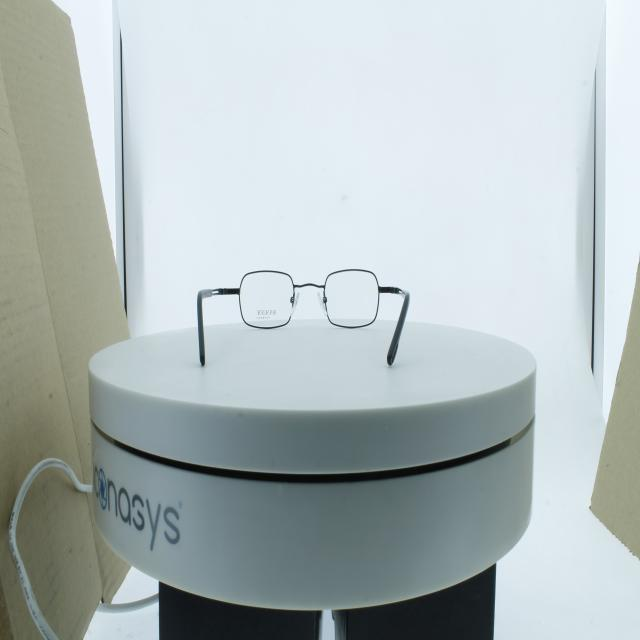Specs: (172, 252, 454, 388)
